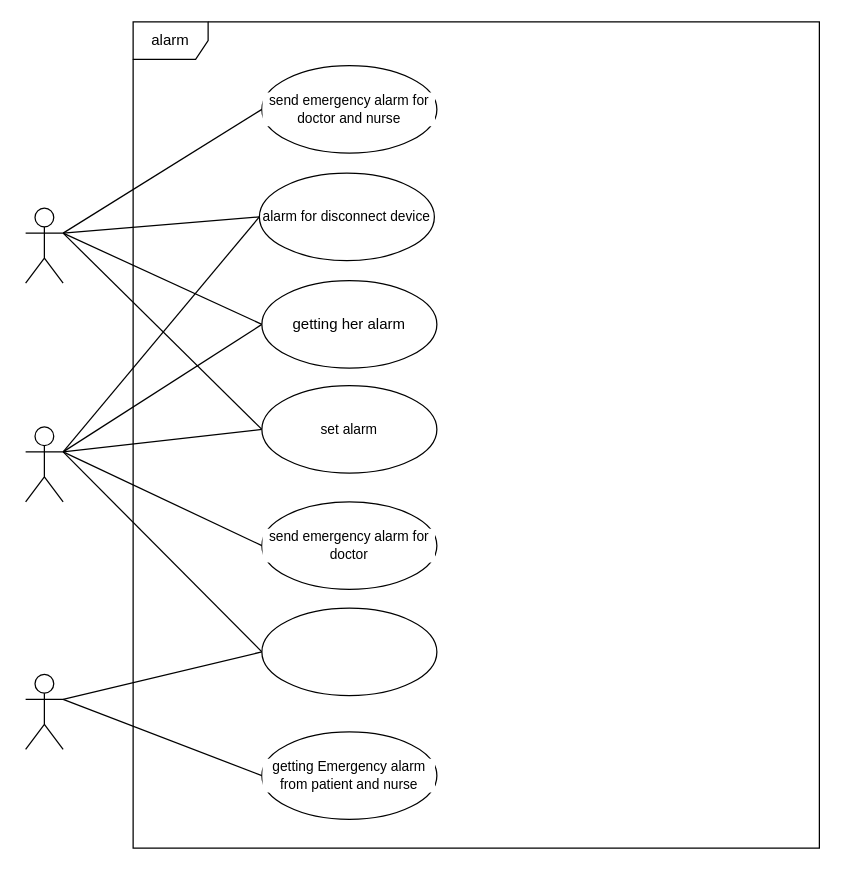
This 841x870 diagram has some shape labels left out. Here are the shapes that lost their labels. From the top down, the centre of each, then its label:
point (43, 245): patient
point (43, 464): nurse
point (349, 651): getting vital signs alarm her patient
point (43, 711): doctor
